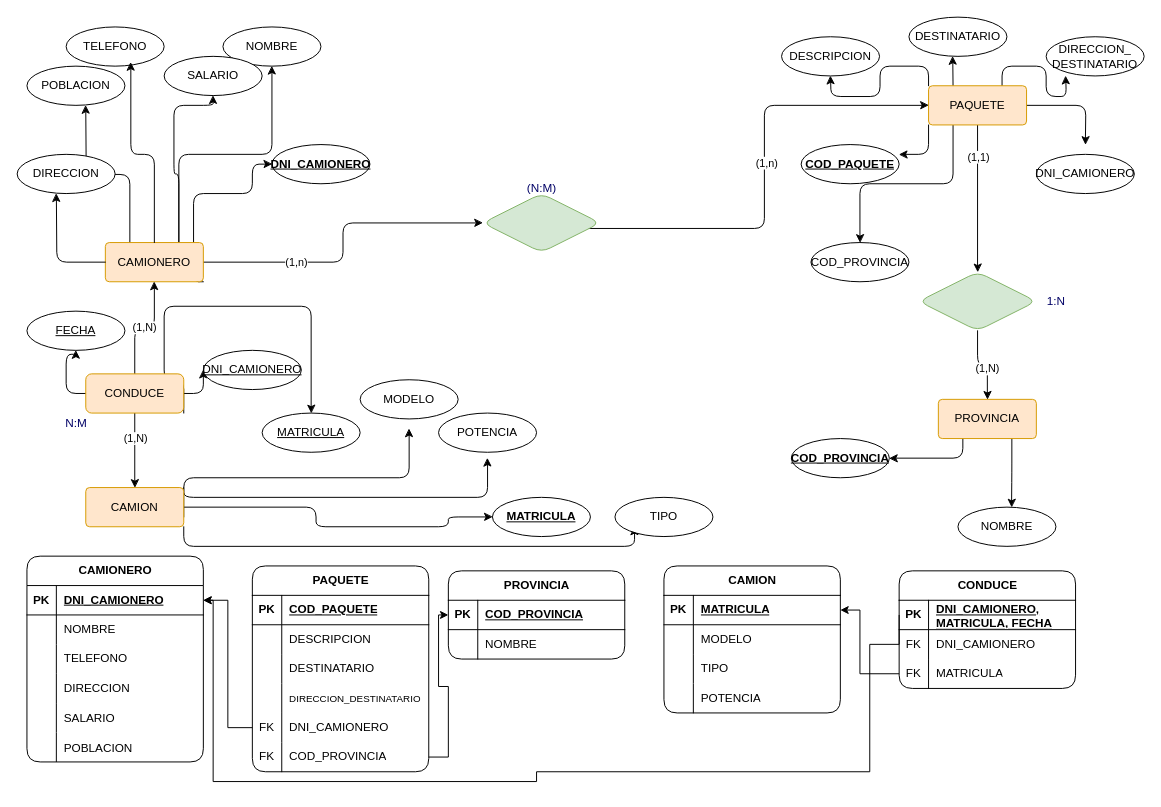
This 1161x807 diagram has some shape labels left out. Here are the shapes that lost their labels. From the top down, the centre of each, then its label:
(541,222): DISTRIBUYE
(977,301): LLEGA
